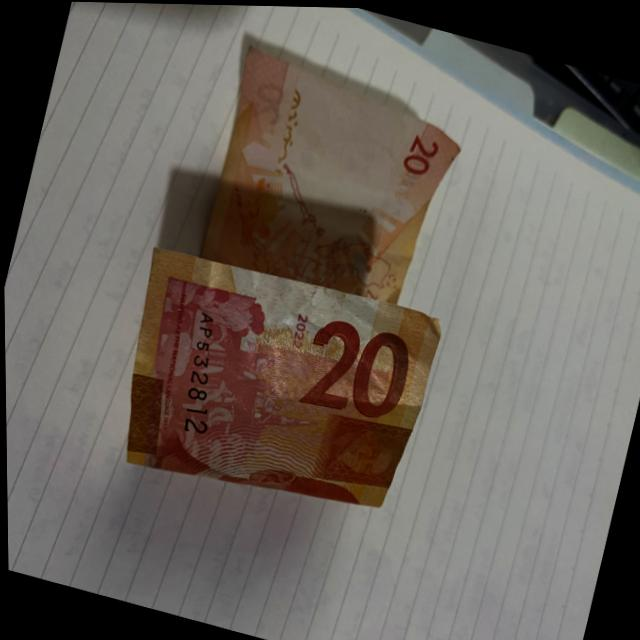concealed_value: (307, 404, 410, 492)
serial_number: (154, 307, 238, 443)
value: (292, 314, 419, 438)
